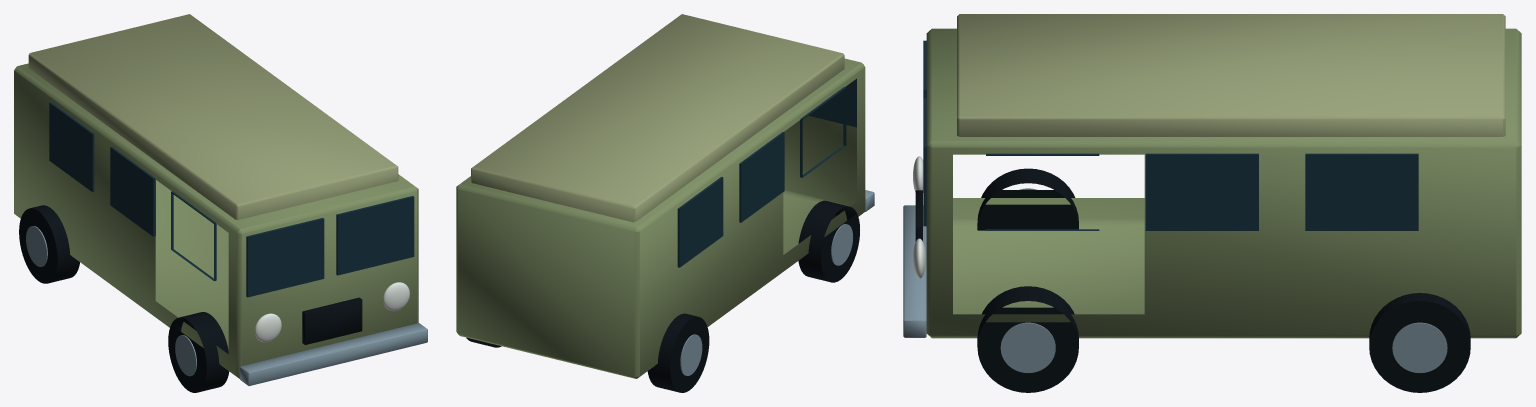
File: van-body.glb
3 renders of one model, left to right at view 1: azimuth 30°, elevation 25°; view 2: azimuth 150°, elevation 25°; view 3: azimuth 270°, elevation 25°, orthographic. The views are drawn at different scales.
Bounding box in the file's own units: 2.2 × 1.99 × 4.26.
Materials: 1 (1 with a texture image).
